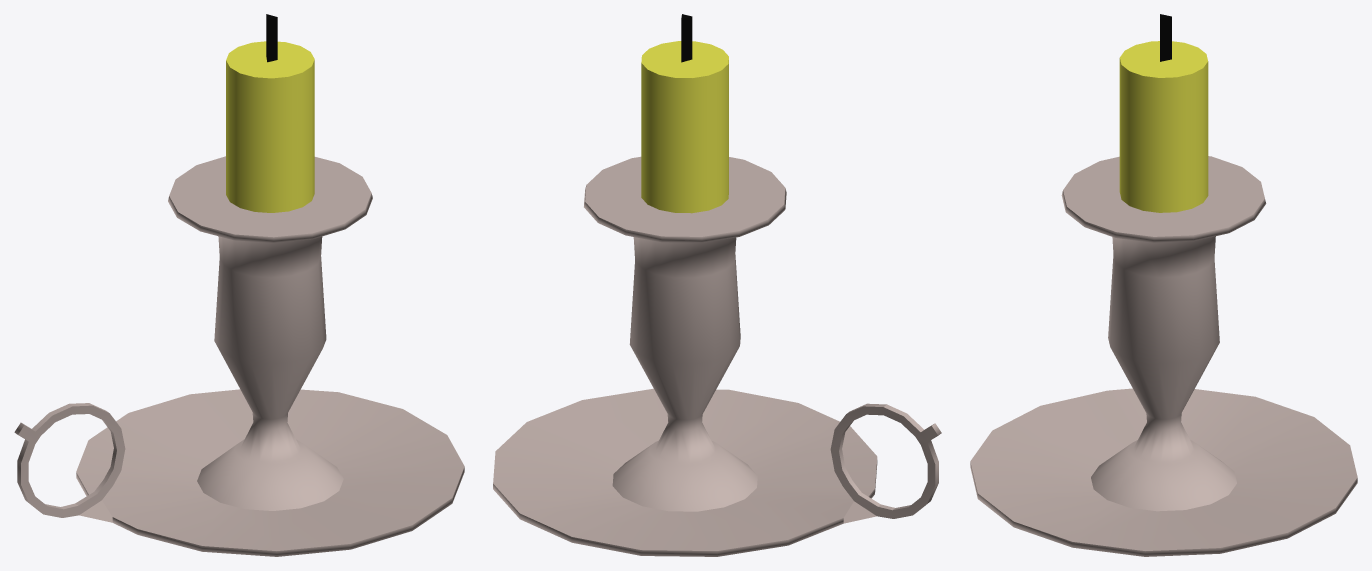
Rendered from Kynttila_jalka.fbx.
The picture shows the model from 3 angles, left to right: view 1: azimuth 30°, elevation 25°; view 2: azimuth 150°, elevation 25°; view 3: azimuth 270°, elevation 25°; orthographic projection.
Parts seen in each view (by area): view 1: jalka; view 2: jalka; view 3: jalka.
Boxes of the visible parts, x1,y1,x2,y2 form: jalka: (14,14,464,556); jalka: (493,14,941,556); jalka: (970,14,1357,556).
Size of the model in its own units: 251 by 273 by 199.
